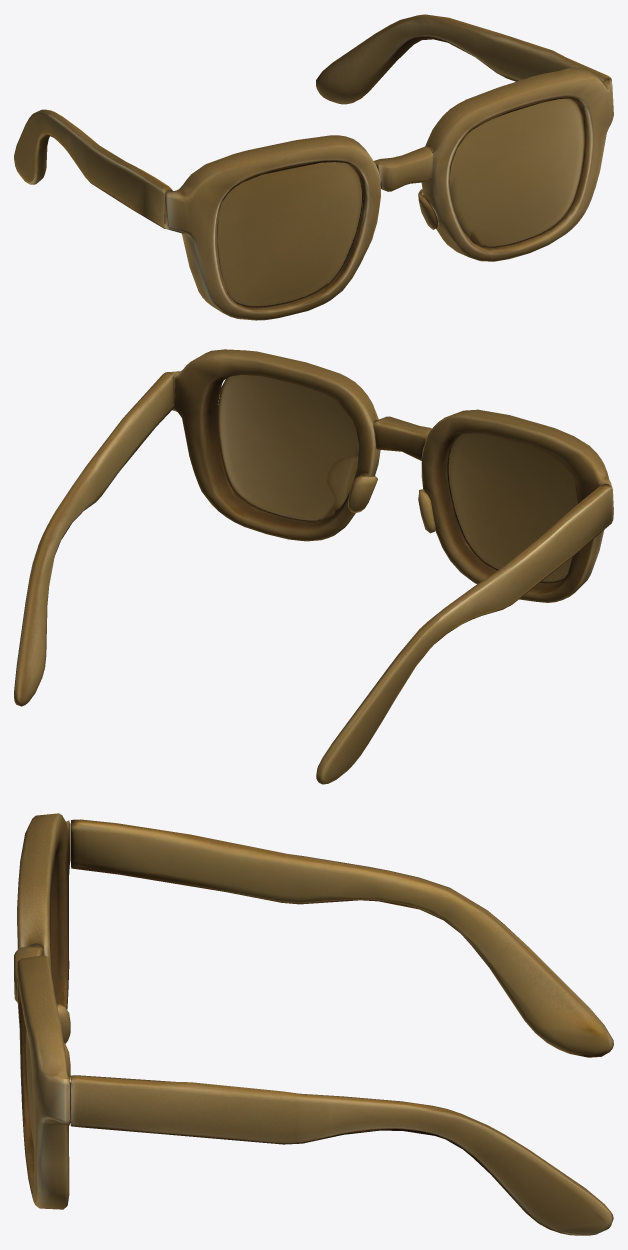
Rendered from tourist_acc_glasses.glb.
3 renders of one model, top to bottom at view 1: azimuth 30°, elevation 25°; view 2: azimuth 150°, elevation 25°; view 3: azimuth 270°, elevation 25°, orthographic. The views are drawn at different scales.
Parts seen in each view (by area): view 1: tripo_node_828533e7-5c56-41e9-a037-d0f3bfc60a1d; view 2: tripo_node_828533e7-5c56-41e9-a037-d0f3bfc60a1d; view 3: tripo_node_828533e7-5c56-41e9-a037-d0f3bfc60a1d.
Boxes of the visible parts, <box> form: tripo_node_828533e7-5c56-41e9-a037-d0f3bfc60a1d: <box>14,14,613,320</box>; tripo_node_828533e7-5c56-41e9-a037-d0f3bfc60a1d: <box>14,349,613,784</box>; tripo_node_828533e7-5c56-41e9-a037-d0f3bfc60a1d: <box>14,813,613,1235</box>.
Size of the model in its own units: 0.9995 by 0.4106 by 0.9443.
1 material, 1 textured.
